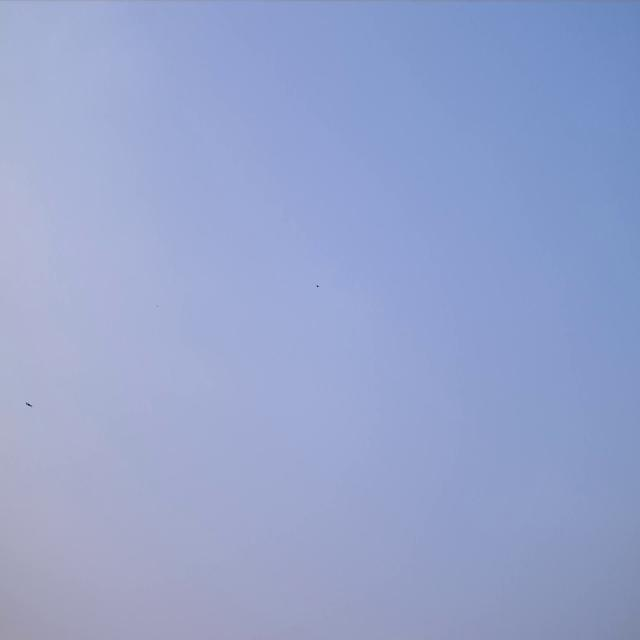UAV: (26, 400, 34, 408)
